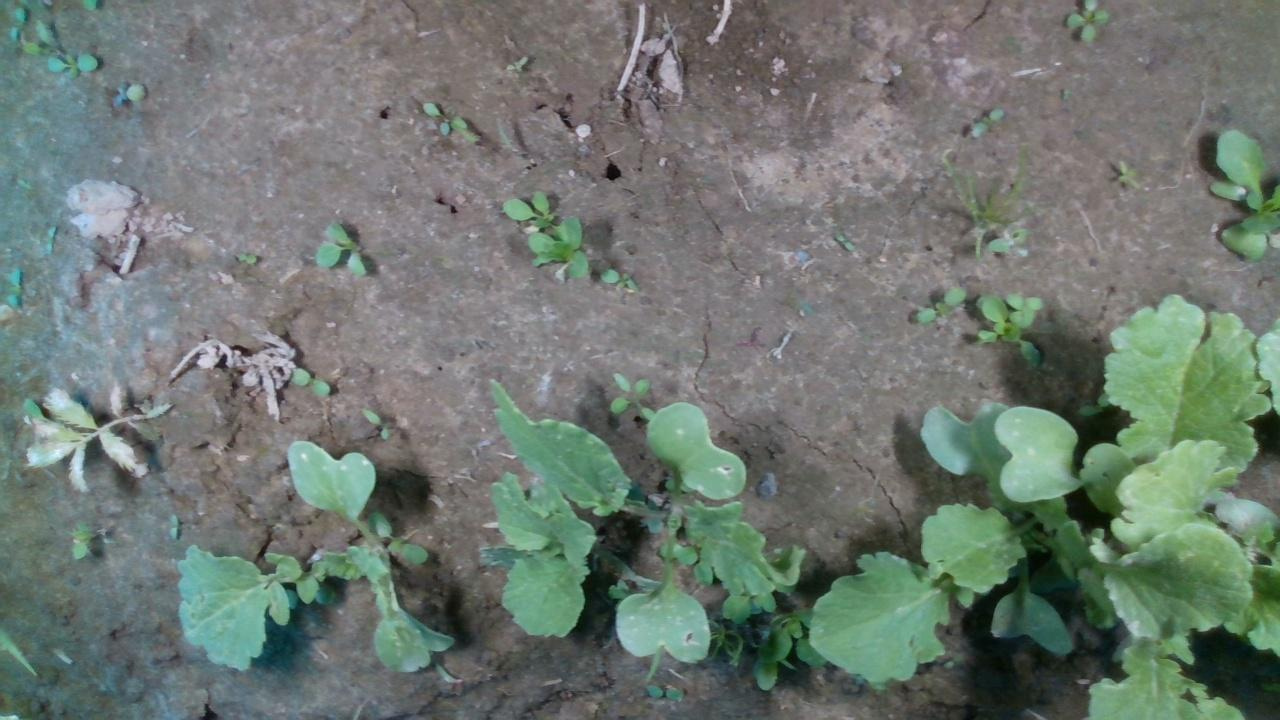weed: (313, 221, 366, 275), (608, 370, 653, 418), (914, 283, 966, 323), (418, 99, 467, 138), (45, 50, 97, 79), (287, 366, 333, 395), (967, 105, 1006, 136), (357, 405, 390, 439), (598, 268, 640, 293), (1116, 155, 1140, 190), (231, 251, 257, 265)
